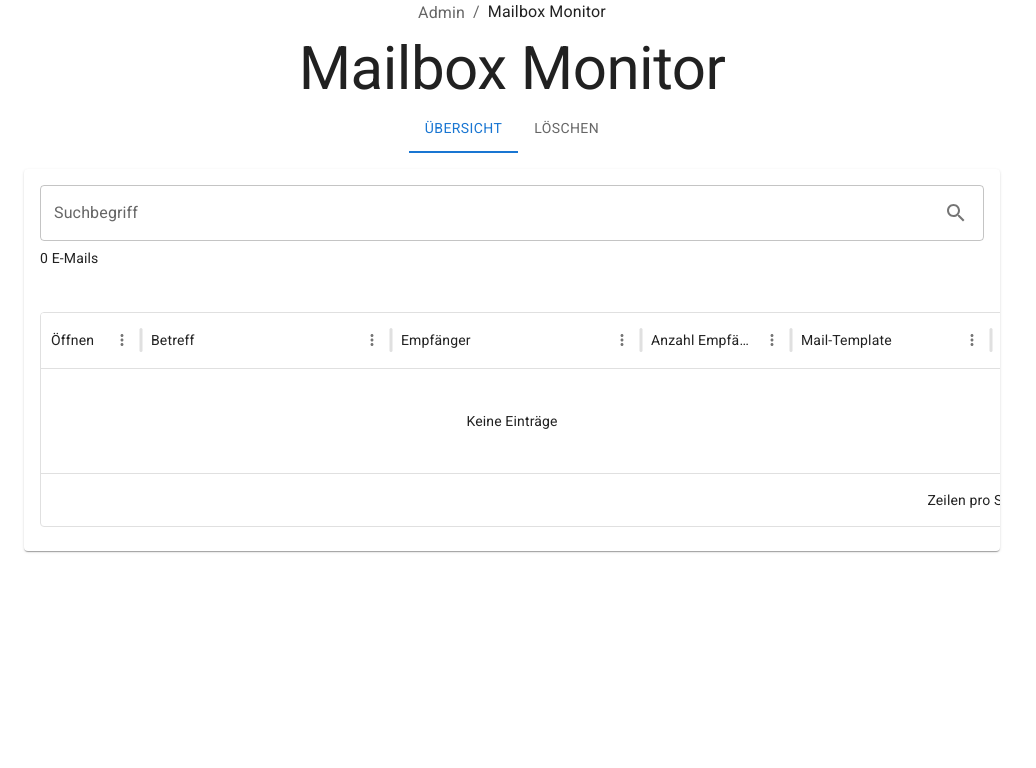
Test: OverviewMailboxPage — Löschen-Panel › kappt eine negativ eingegebene Tagesanzahl auf den Mindestwert (100)
Click the tab "Löschen": (567, 129) [518,105,615,153]
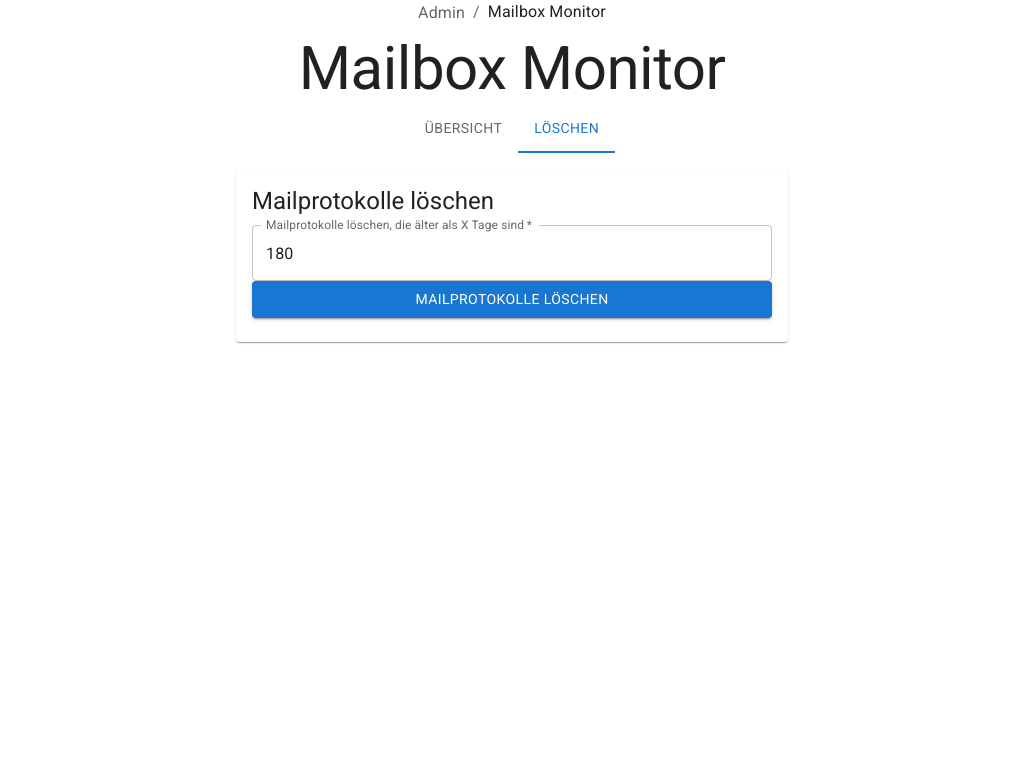
Replace the text in the number field labelled "Mailprotokolle löschen, die älter als X Tage sind *" with "-5": (512, 253) [252,225,772,281]
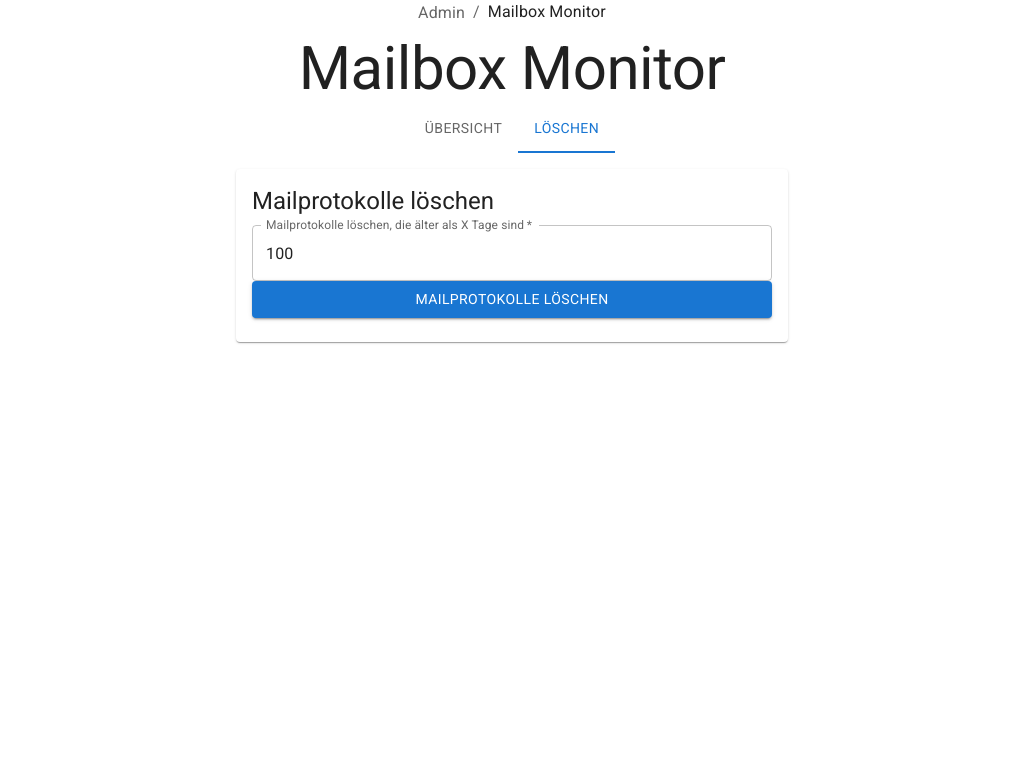
Result: the number field labelled "Mailprotokolle löschen, die älter als X Tage sind *" holds "100" at [252,225,772,281]
